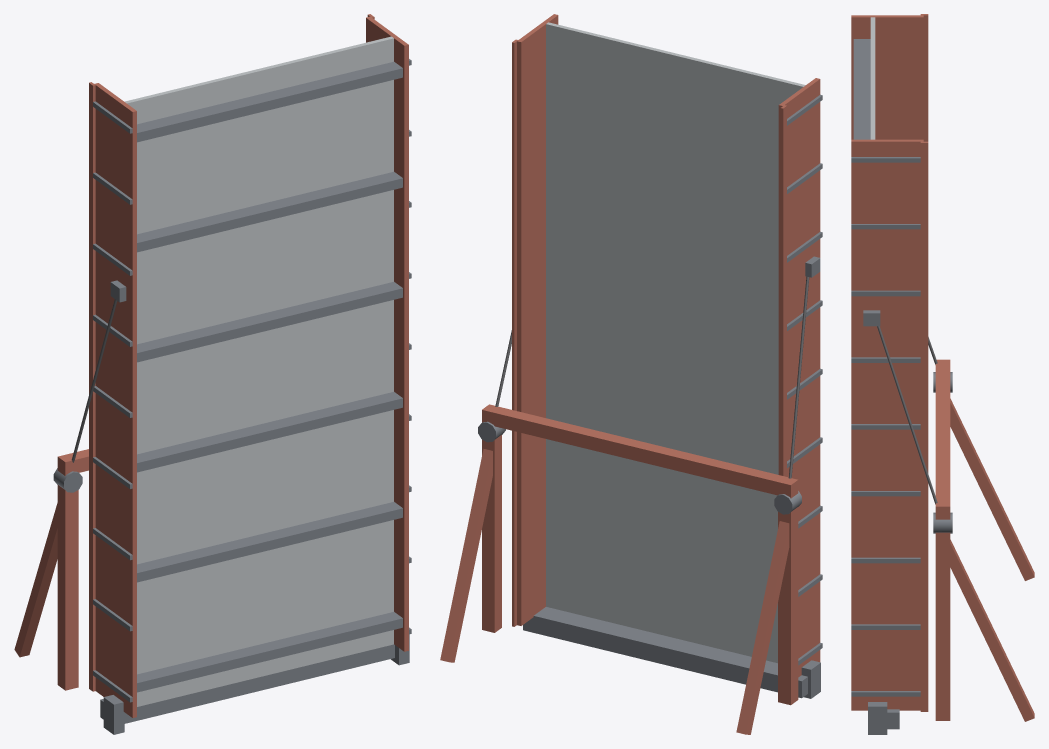
The model's file is bascule_iron_road.glb.
3 renders of one model, left to right at view 1: azimuth 30°, elevation 25°; view 2: azimuth 150°, elevation 25°; view 3: azimuth 270°, elevation 25°, orthographic. The views are drawn at different scales.
Visible parts, largest first — view 1: span, bridge; view 2: span, bridge, cable_l; view 3: span, bridge, cable_r.
Boxes of the visible parts, <box> form: span: <box>89,14,411,717</box>; bridge: <box>14,449,409,734</box>; span: <box>512,14,822,677</box>; bridge: <box>440,404,820,734</box>; cable_l: <box>788,276,809,478</box>; span: <box>851,14,928,711</box>; bridge: <box>868,359,1034,734</box>; cable_r: <box>877,326,937,504</box>.
Size of the model in its own units: 7.32 by 13.45 by 3.8.
